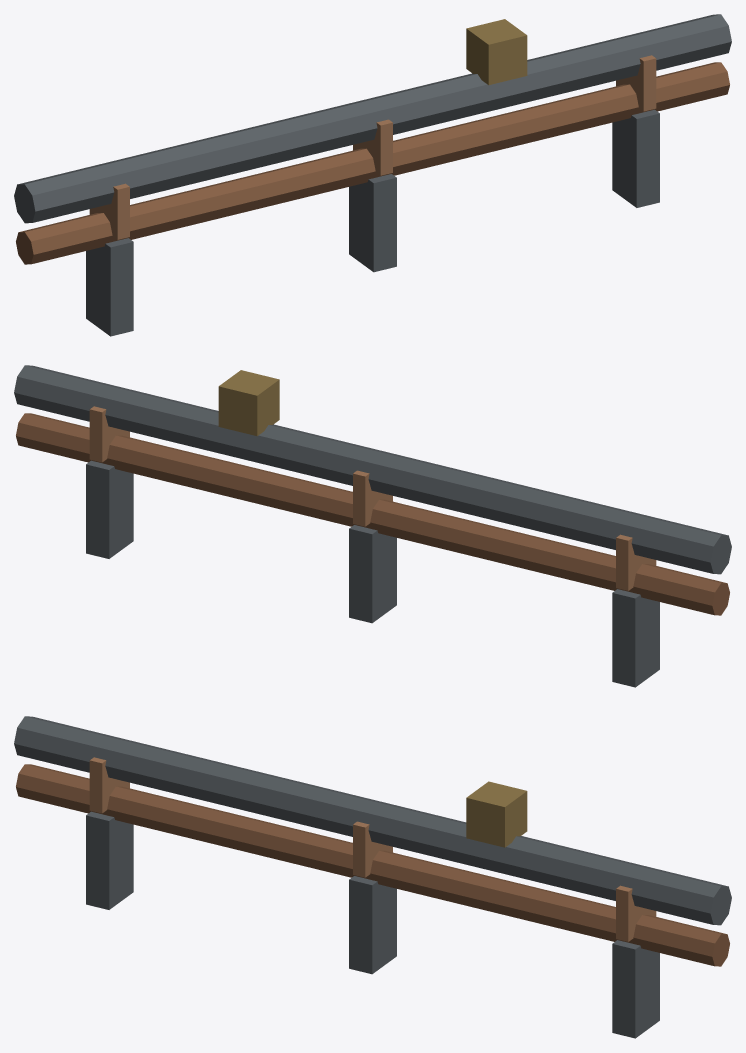
The model's file is pipe_run.glb.
3 views of the same model, one above another, from view 1: azimuth 30°, elevation 25°; view 2: azimuth 150°, elevation 25°; view 3: azimuth 330°, elevation 25° (orthographic).
Visible parts, largest first — view 1: pipe1, pipe0, stand0, stand1, stand2, valve, clamp2, clamp0, clamp1; view 2: pipe1, pipe0, stand0, stand1, stand2, valve, clamp2, clamp0, clamp1; view 3: pipe1, pipe0, stand2, stand1, stand0, valve, clamp0, clamp2, clamp1.
Part boxes in pixels (x1=…): pipe1: x1=14, y1=14, x2=731, y2=223; pipe0: x1=16, y1=62, x2=729, y2=264; stand0: x1=86, y1=238, x2=133, y2=336; stand1: x1=349, y1=174, x2=396, y2=272; stand2: x1=612, y1=109, x2=659, y2=207; valve: x1=466, y1=19, x2=527, y2=85; clamp2: x1=616, y1=55, x2=656, y2=111; clamp0: x1=89, y1=183, x2=129, y2=239; clamp1: x1=353, y1=119, x2=392, y2=175; pipe1: x1=14, y1=365, x2=731, y2=574; pipe0: x1=16, y1=413, x2=729, y2=615; stand0: x1=612, y1=589, x2=659, y2=687; stand1: x1=349, y1=525, x2=396, y2=623; stand2: x1=86, y1=460, x2=133, y2=558; valve: x1=218, y1=370, x2=279, y2=436; clamp2: x1=89, y1=406, x2=129, y2=462; clamp0: x1=616, y1=534, x2=656, y2=590; clamp1: x1=353, y1=470, x2=392, y2=526; pipe1: x1=14, y1=716, x2=731, y2=925; pipe0: x1=16, y1=764, x2=729, y2=966; stand2: x1=612, y1=940, x2=659, y2=1038; stand1: x1=349, y1=876, x2=396, y2=974; stand0: x1=86, y1=811, x2=133, y2=909; valve: x1=466, y1=781, x2=527, y2=847; clamp0: x1=89, y1=757, x2=129, y2=813; clamp2: x1=616, y1=885, x2=656, y2=941; clamp1: x1=353, y1=821, x2=392, y2=877.
Bounding box in the file's own units: 9 × 2.45 × 0.62.
